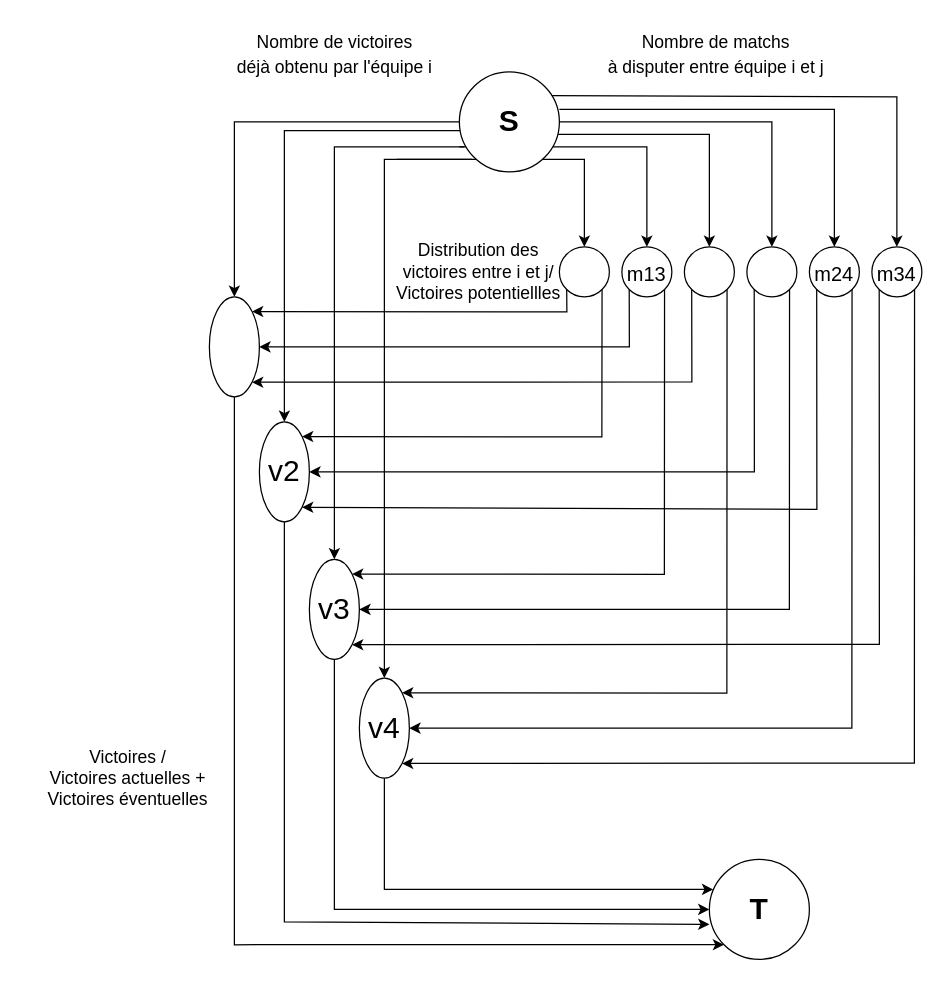
Some shapes in this 946 by 981 pixel diagram are drawn without their labels. Each missing label, with the centre of its shape:
"m12" belongs at (583,271).
"m14" belongs at (708,271).
"m23" belongs at (771,271).
"v1" belongs at (233,346).
